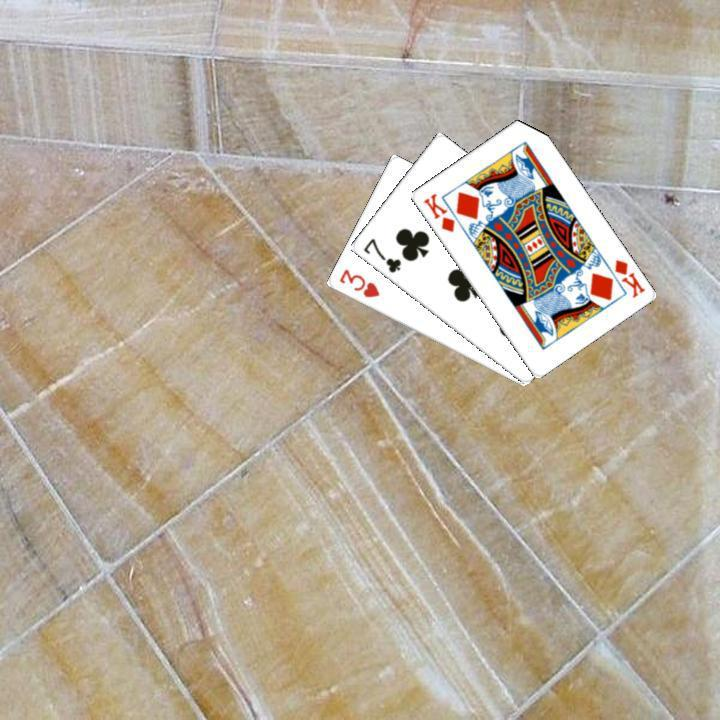3: (334, 264, 381, 300)
7: (358, 234, 403, 275)
K: (418, 189, 456, 235), (609, 255, 647, 300)
